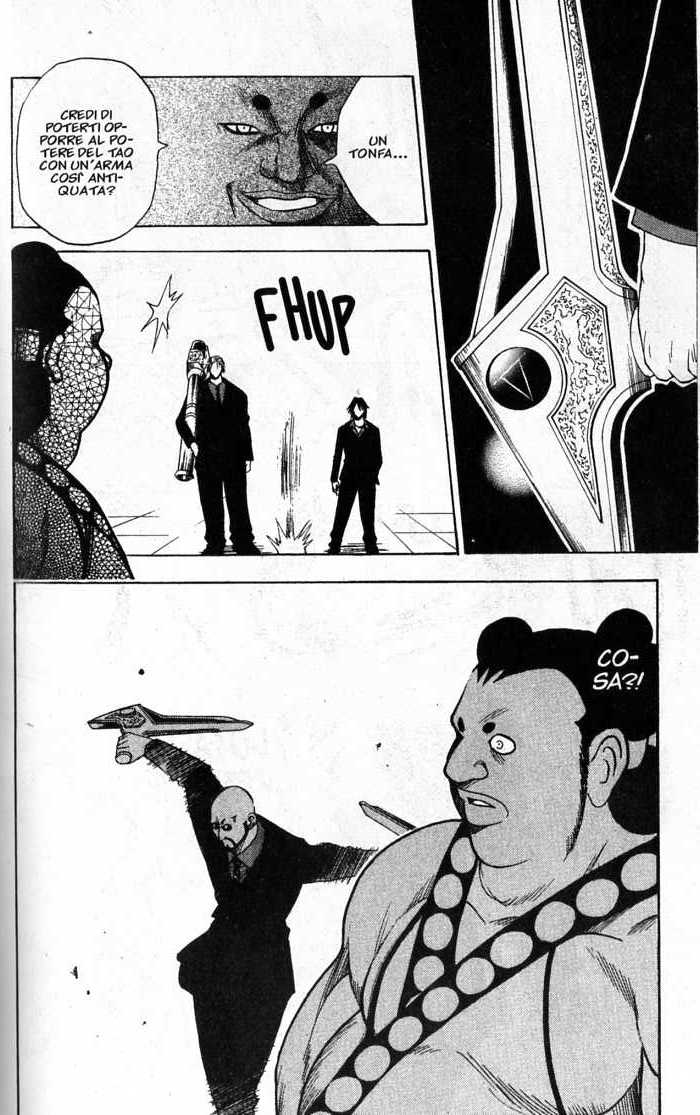Baloon: (15, 60, 164, 245), (327, 74, 423, 230), (586, 606, 672, 742)
Vignetta: (10, 582, 660, 1115), (410, 1, 700, 551), (13, 250, 462, 579), (10, 79, 432, 230)
